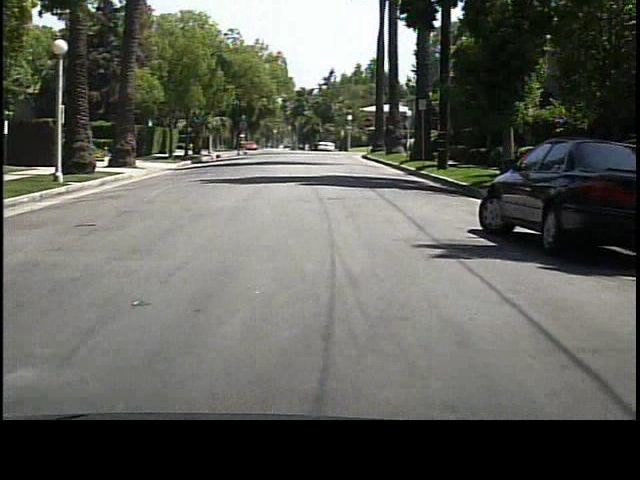person: (235, 130, 249, 160)
